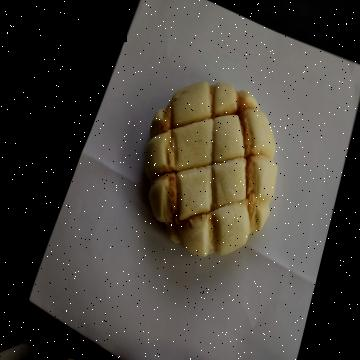melon_bread: (145, 82, 277, 257)
